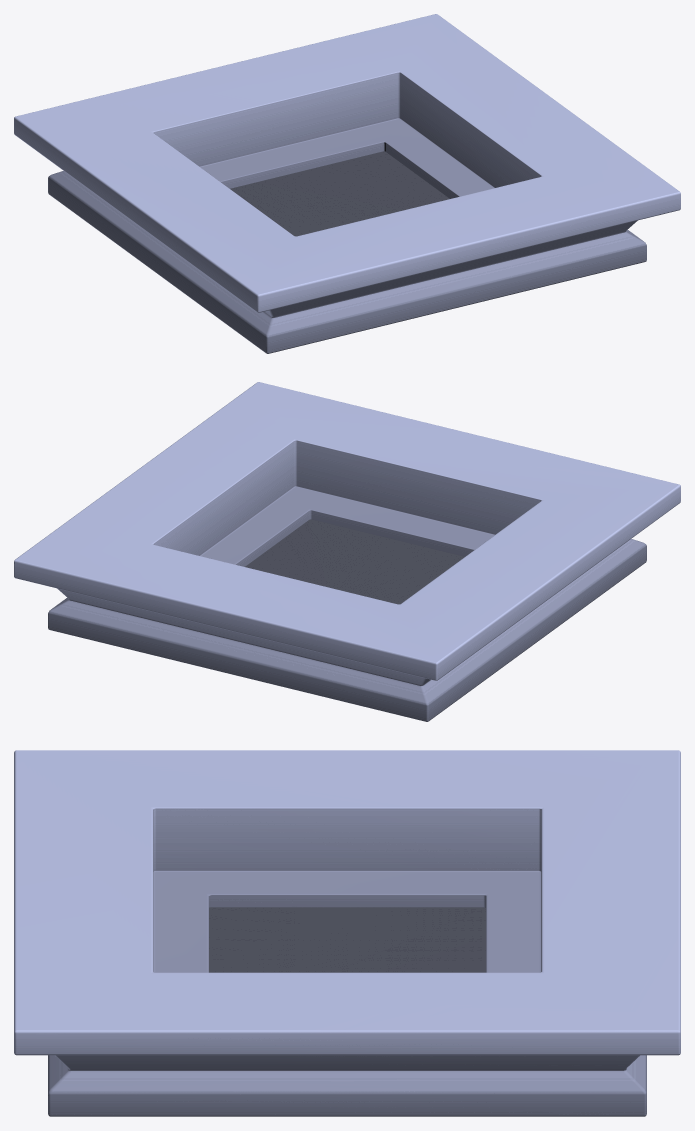
File: roof-flat-square.glb
3 renders of one model, top to bottom at view 1: azimuth 30°, elevation 25°; view 2: azimuth 150°, elevation 25°; view 3: azimuth 270°, elevation 25°, orthographic. The views are drawn at different scales.
Visible parts, largest first — view 1: roof-flat-square; view 2: roof-flat-square; view 3: roof-flat-square.
Part boxes in pixels (<box>): roof-flat-square: <box>14,14,680,353</box>; roof-flat-square: <box>14,382,680,721</box>; roof-flat-square: <box>14,750,680,1116</box>.
Size of the model in its own units: 2.39 by 0.4 by 2.39.
1 material, 1 textured.
